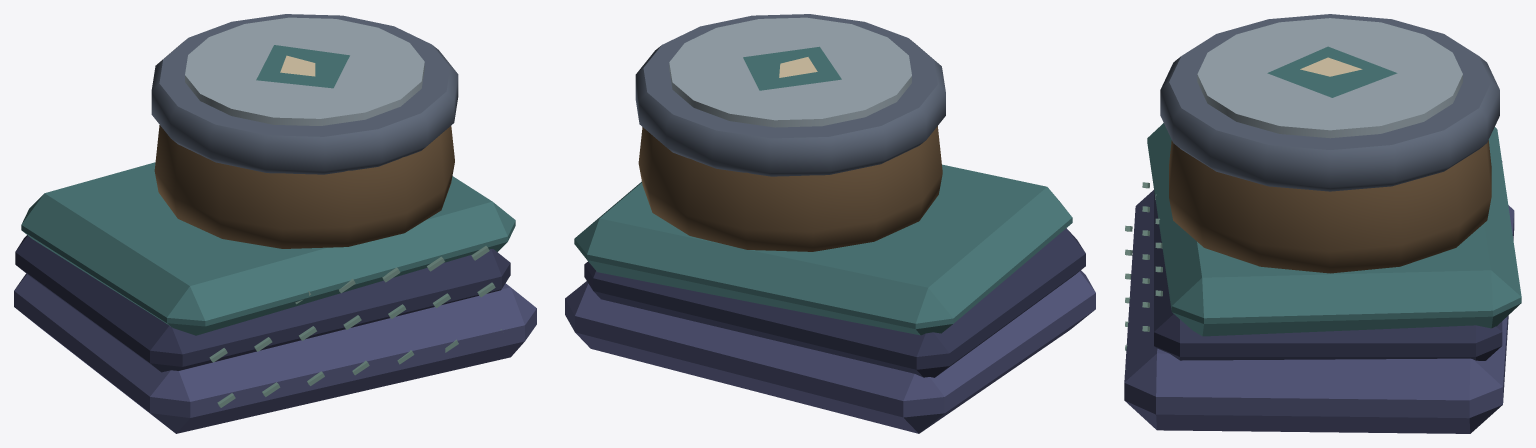
Rendered from polishing_cloth.glb.
3 renders of one model, left to right at view 1: azimuth 30°, elevation 25°; view 2: azimuth 150°, elevation 25°; view 3: azimuth 270°, elevation 25°, orthographic. The views are drawn at different scales.
Visible parts, largest first — view 1: polishing_cloth; view 2: polishing_cloth; view 3: polishing_cloth.
Part boxes in pixels (x1,y1,x2,y2): polishing_cloth: [14, 14, 536, 433]; polishing_cloth: [565, 14, 1095, 433]; polishing_cloth: [1124, 14, 1521, 433].
Size of the model in its own units: 0.2258 by 0.1475 by 0.1825.
